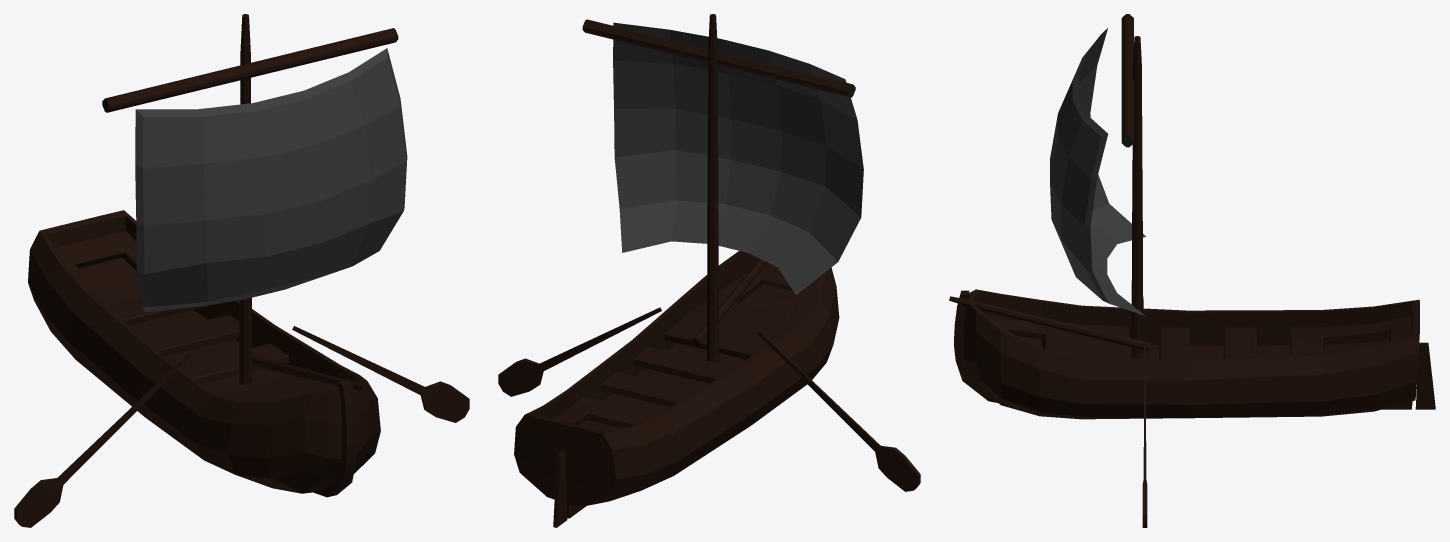
File: Ship_Small.fbx
3 renders of one model, left to right at view 1: azimuth 30°, elevation 25°; view 2: azimuth 150°, elevation 25°; view 3: azimuth 270°, elevation 25°, orthographic. The views are drawn at different scales.
Visible parts, largest first — view 1: Box366, Box361, Ship Small, Box367, Box370, Box375, Cylinder038, Box376, Cylinder039; view 2: Box366, Box361, Ship Small, Cylinder038, Box367, Box370, Box375, Box362, Cylinder039; view 3: Box361, Box366, Ship Small, Cylinder038, Cylinder039, Box367, Box376, Box362, Box375.
Part boxes in pixels (bbox=[...]): Box366: bbox=[135, 48, 407, 311]; Box361: bbox=[28, 210, 380, 493]; Ship Small: bbox=[55, 231, 338, 401]; Box367: bbox=[102, 28, 398, 112]; Box370: bbox=[14, 353, 191, 527]; Box375: bbox=[292, 326, 469, 422]; Cylinder038: bbox=[239, 14, 251, 384]; Box376: bbox=[313, 380, 356, 497]; Cylinder039: bbox=[252, 355, 367, 391]; Box366: bbox=[613, 22, 863, 295]; Box361: bbox=[514, 251, 839, 506]; Ship Small: bbox=[552, 262, 818, 428]; Cylinder038: bbox=[707, 14, 718, 363]; Box367: bbox=[582, 19, 855, 97]; Box370: bbox=[757, 330, 920, 491]; Box375: bbox=[498, 307, 661, 396]; Box362: bbox=[553, 451, 567, 527]; Cylinder039: bbox=[692, 259, 766, 346]; Box361: bbox=[963, 289, 1419, 419]; Box366: bbox=[1050, 28, 1145, 315]; Ship Small: bbox=[988, 315, 1411, 359]; Cylinder038: bbox=[1131, 36, 1143, 358]; Cylinder039: bbox=[949, 296, 1150, 351]; Box367: bbox=[1121, 14, 1133, 147]; Box376: bbox=[954, 290, 998, 403]; Box362: bbox=[1415, 342, 1435, 409]; Box375: bbox=[1142, 342, 1147, 527].
Size of the model in its own units: 1897 by 1845 by 2034.
